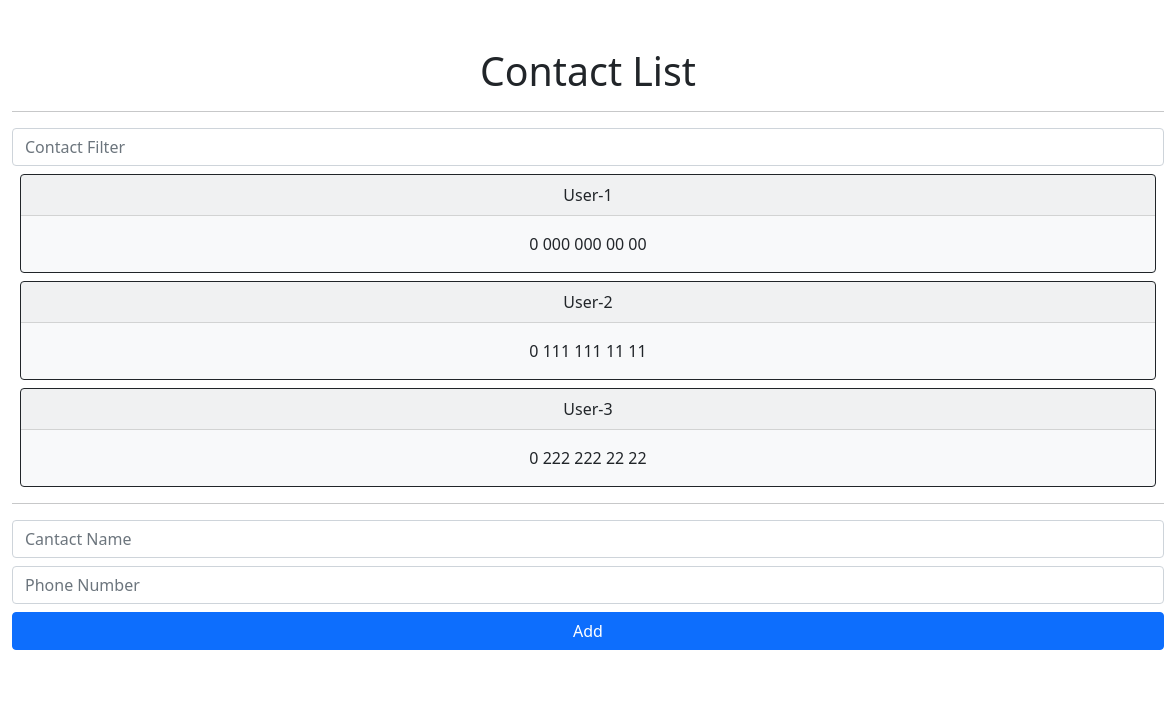
it: Contact Main › Contact List add contact
Type "chiva" into the field with placeholder "Cantact Name" at [588, 539], box [12,520,1164,558]
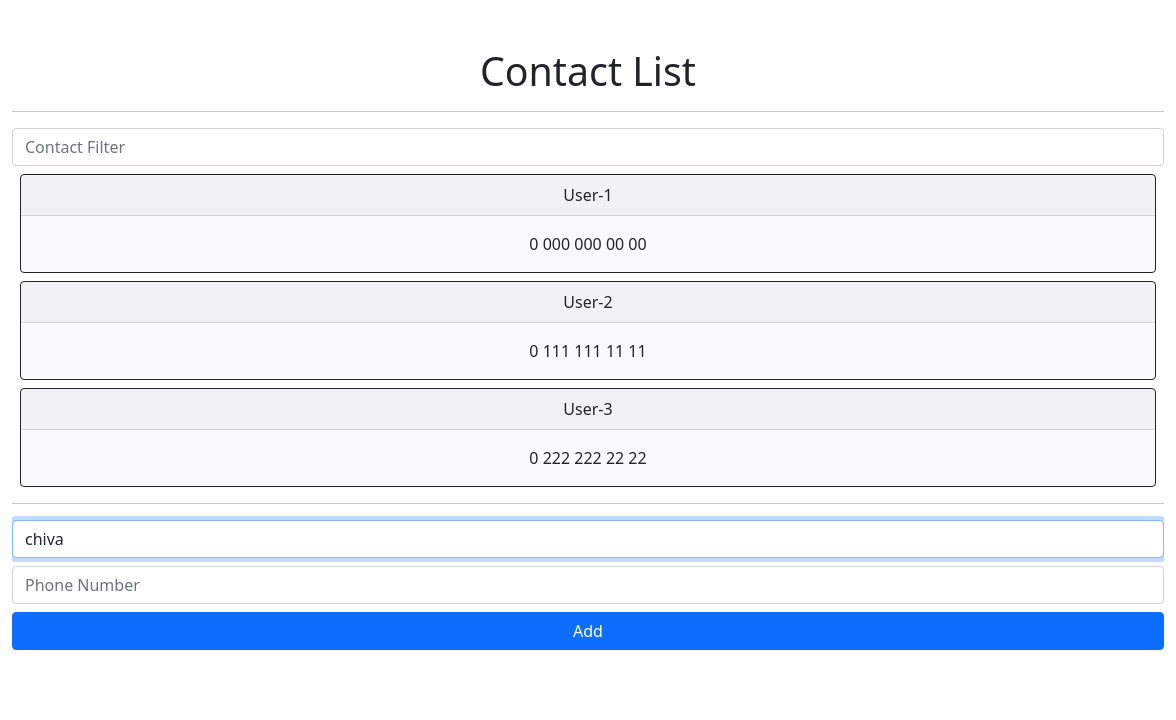
Type "lrous" into the field with placeholder "Cantact Name" at [588, 539], box [12,520,1164,558]
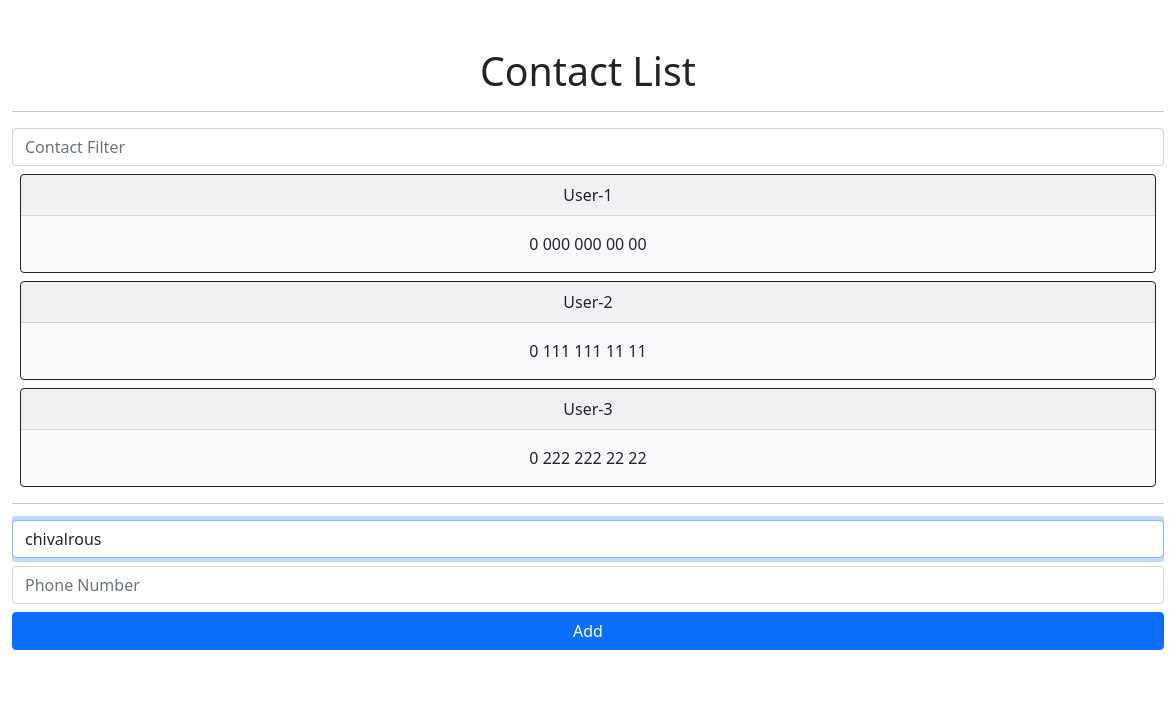
Type "0 555 444 33 22" into the field with placeholder "Phone Number" at [588, 585], box [12,566,1164,604]
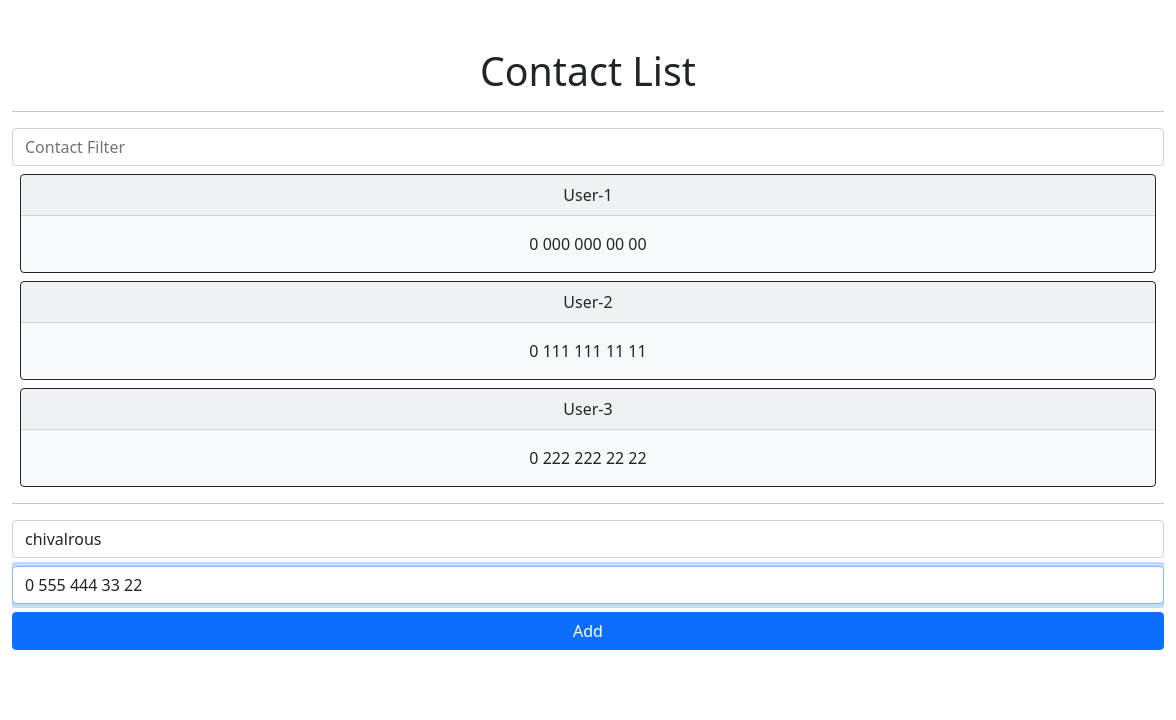
Click the button "Add" at [588, 631], box [12,612,1164,650]
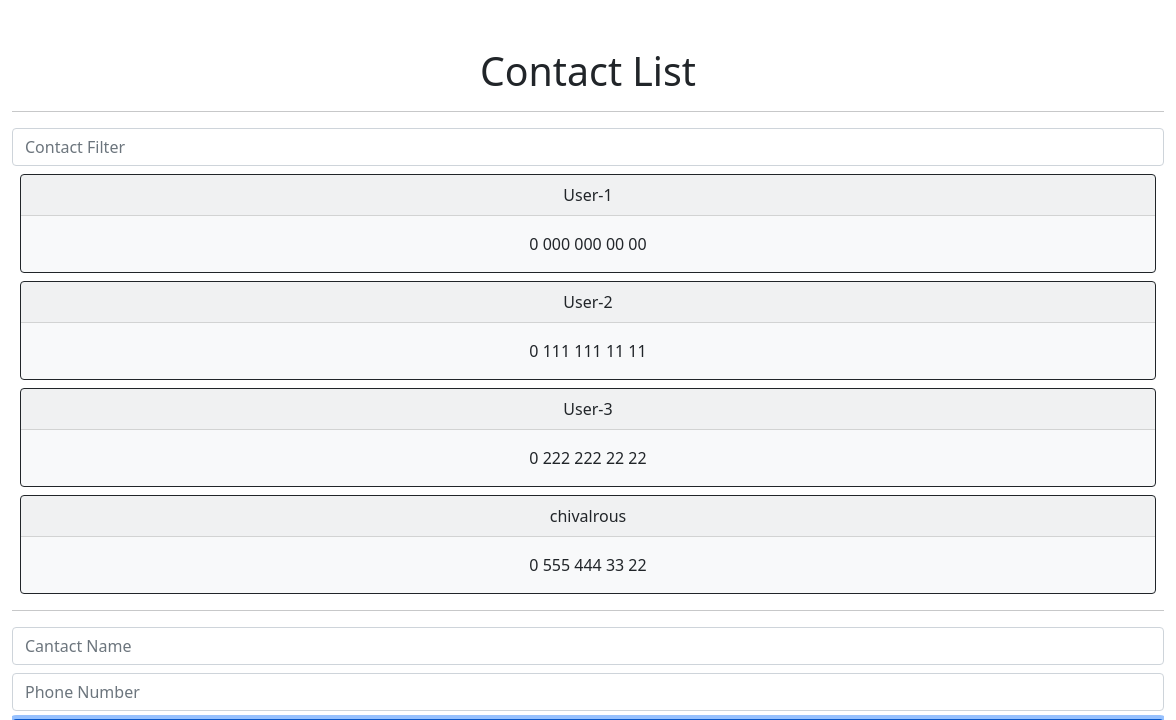
Check: the text "0 555 444 33 22" is shown, box [529,554,647,576]
Check: the field with placeholder "Cantact Name" is empty, box [12,627,1164,665]
Check: the field with placeholder "Phone Number" is empty, box [12,673,1164,711]
